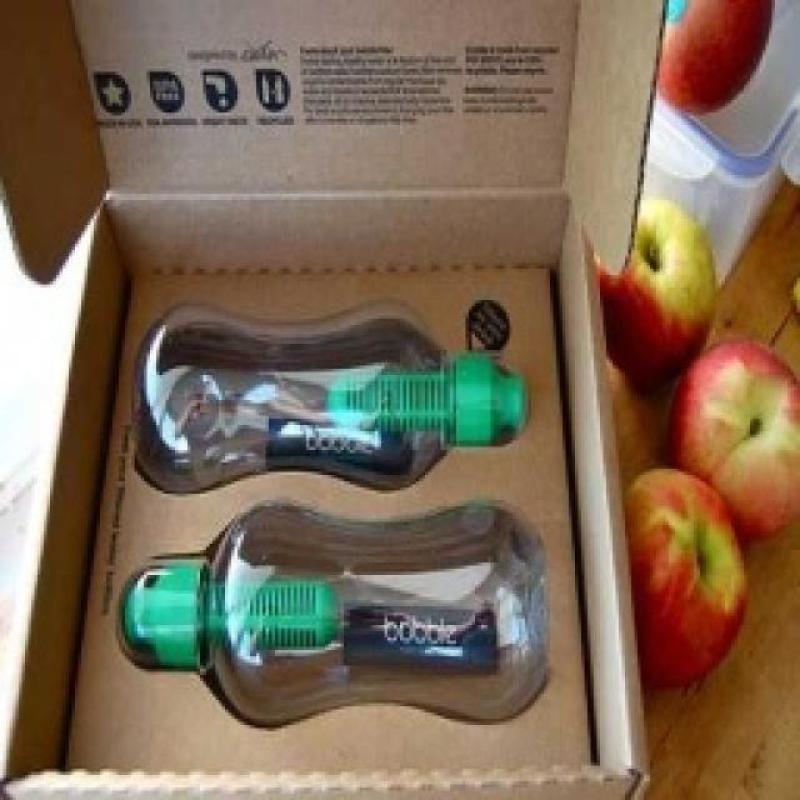botella: (119, 498, 556, 727), (134, 303, 531, 497)
